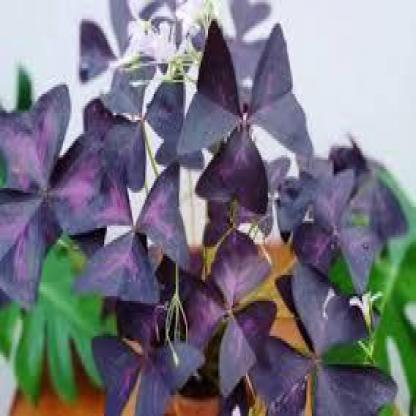Kupu-Kupu: (196, 39, 309, 213), (2, 104, 83, 255), (188, 239, 272, 366), (310, 175, 373, 292)
